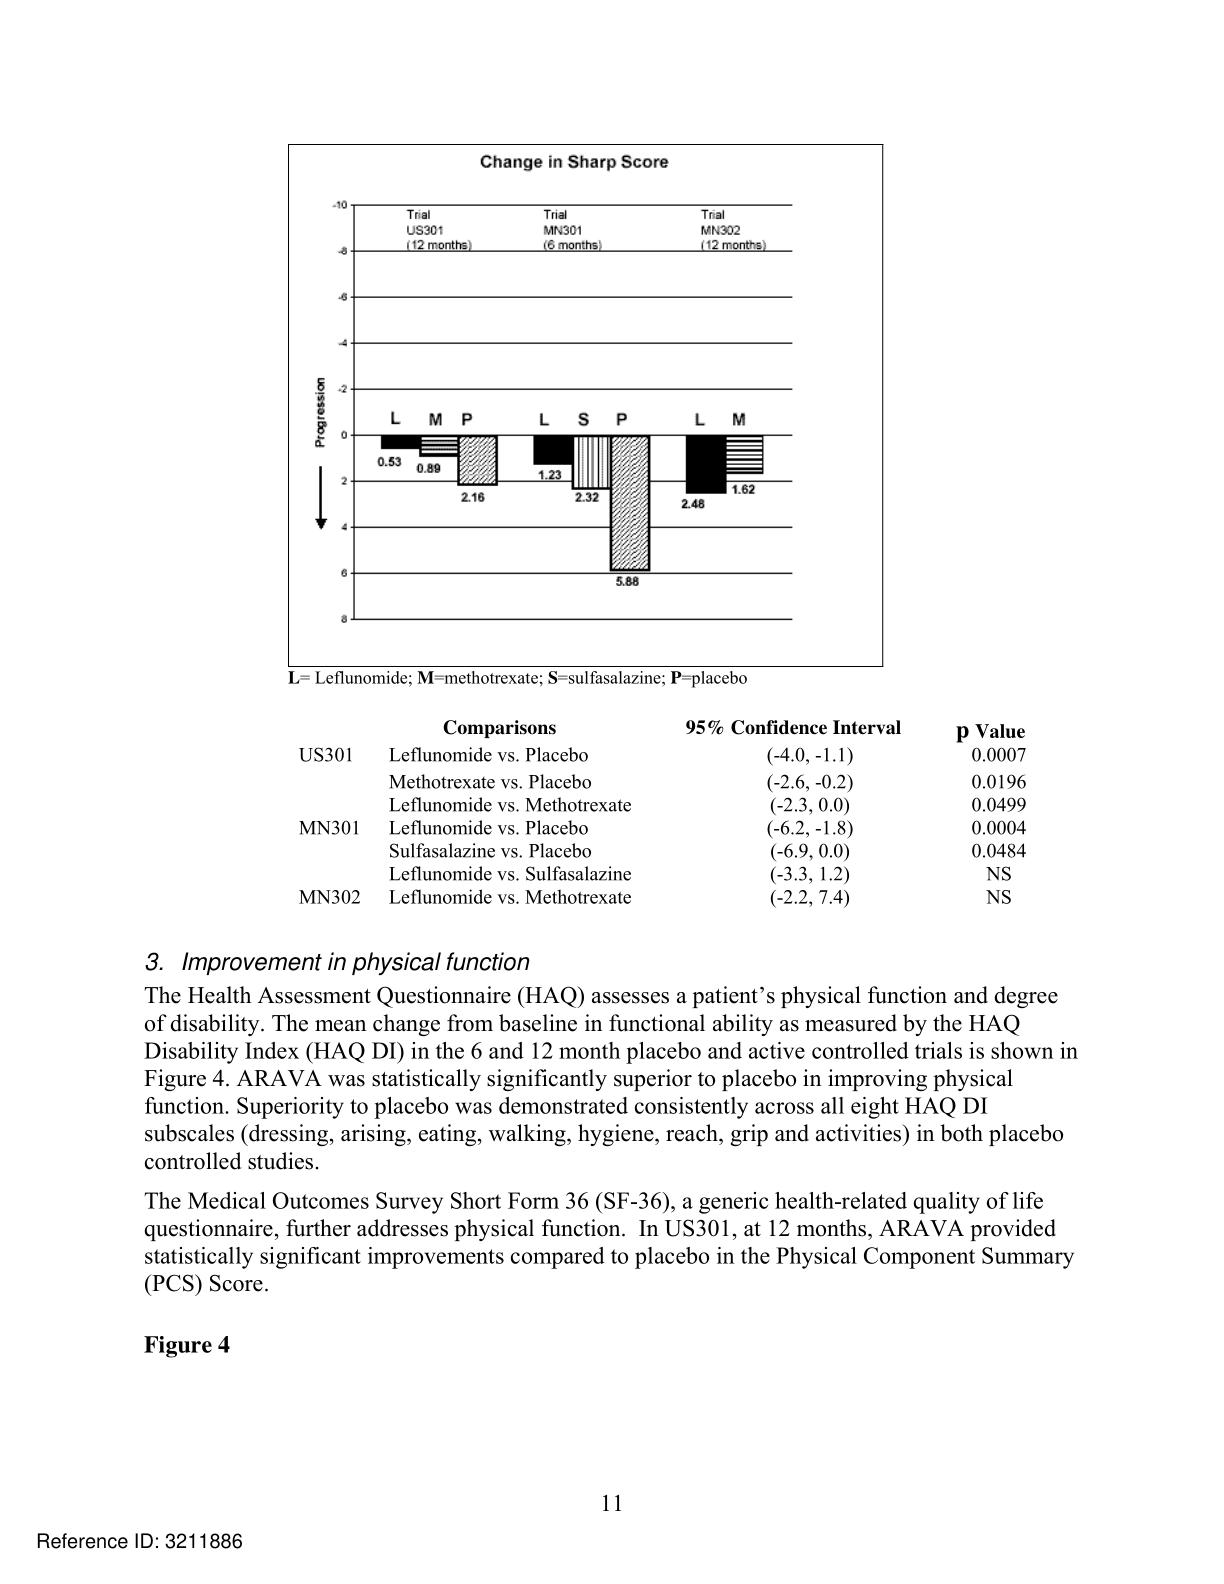nolines: (298, 716, 1032, 908)
